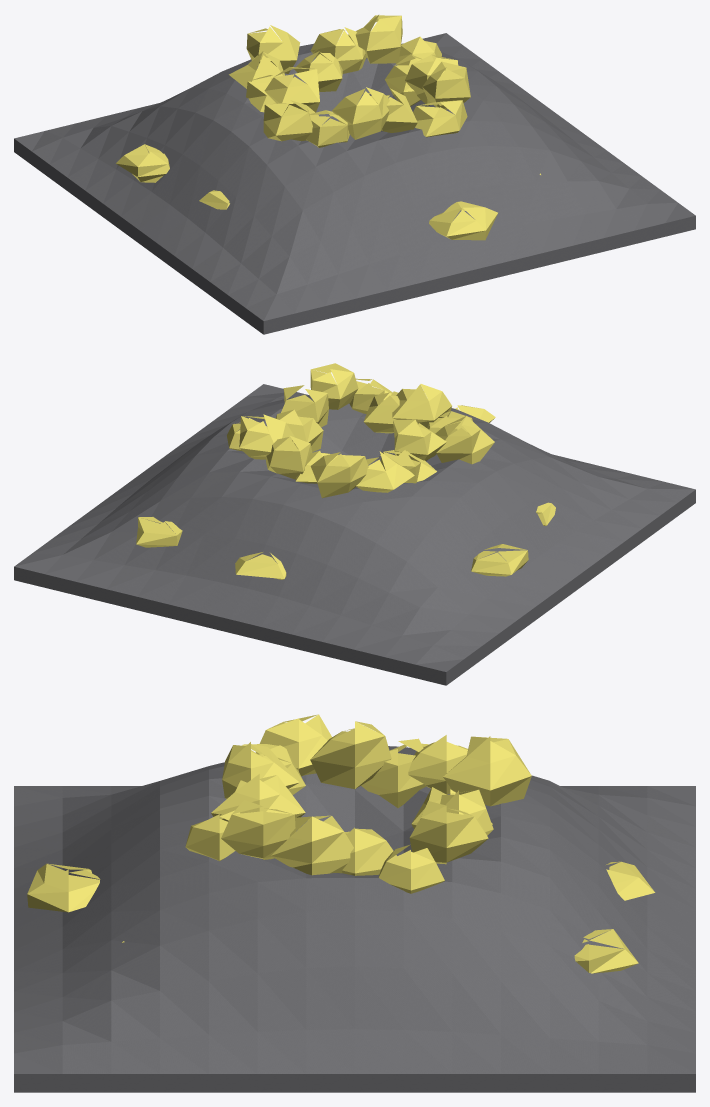
File: volcano-and-lava-fields-volcano-and-lava-fields-fumaro-ddc6aa87__37460.glb
3 renders of one model, top to bottom at view 1: azimuth 30°, elevation 25°; view 2: azimuth 150°, elevation 25°; view 3: azimuth 270°, elevation 25°, orthographic. The views are drawn at different scales.
Parts seen in each view (by area): view 1: volcano-and-lava-fields-fumarole-vent-with-sulphur-crust; view 2: volcano-and-lava-fields-fumarole-vent-with-sulphur-crust; view 3: volcano-and-lava-fields-fumarole-vent-with-sulphur-crust.
Boxes of the visible parts, left/top/right/bottom form: volcano-and-lava-fields-fumarole-vent-with-sulphur-crust: left=14, top=15, right=695, bottom=334; volcano-and-lava-fields-fumarole-vent-with-sulphur-crust: left=14, top=363, right=695, bottom=685; volcano-and-lava-fields-fumarole-vent-with-sulphur-crust: left=14, top=714, right=695, bottom=1092.
Size of the model in its own units: 2 by 0.6113 by 2.
Materials: 3 (1 with a texture image).
